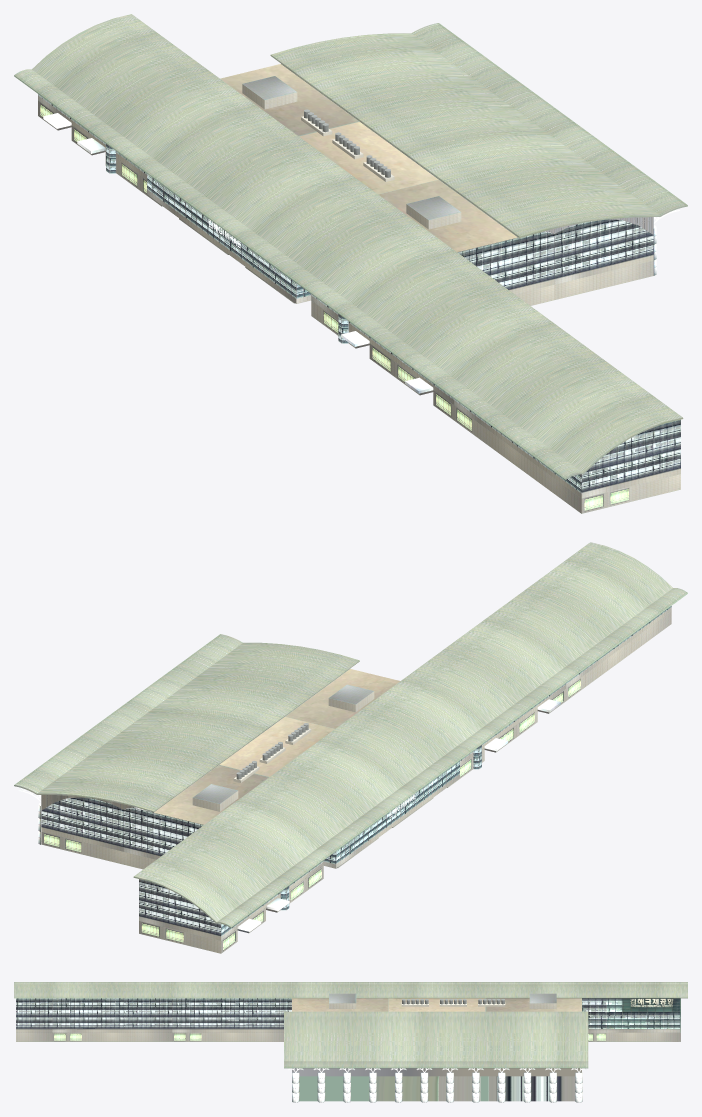
Rendered from international_terminal.gltf.
The picture shows the model from 3 angles, top to bottom: view 1: azimuth 30°, elevation 25°; view 2: azimuth 150°, elevation 25°; view 3: azimuth 270°, elevation 25°; orthographic projection. The views are drawn at different scales.
Parts seen in each view (by area): view 1: node2; view 2: node2; view 3: node2.
Boxes of the visible parts, x1,y1,x2,y2 form: node2: (14,14,687,513); node2: (14,542,687,953); node2: (14,982,687,1102).
Size of the model in its own units: 115 by 26.08 by 321.
1 material, 1 textured.
